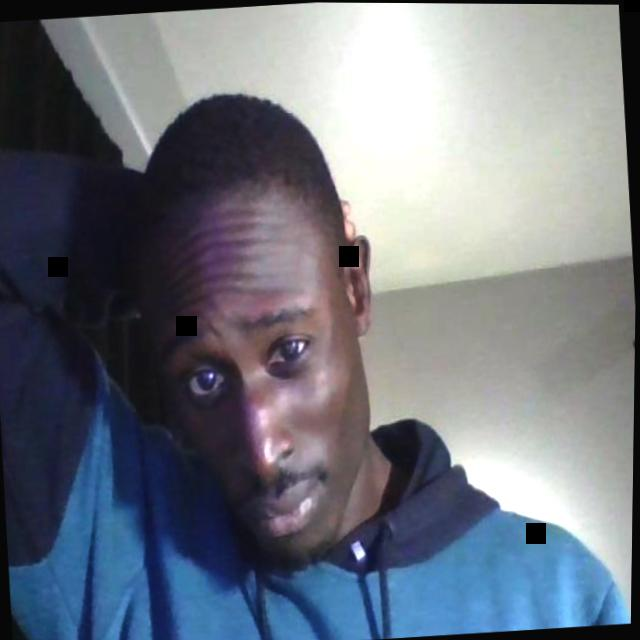NO-Mask: (145, 237, 385, 579)
